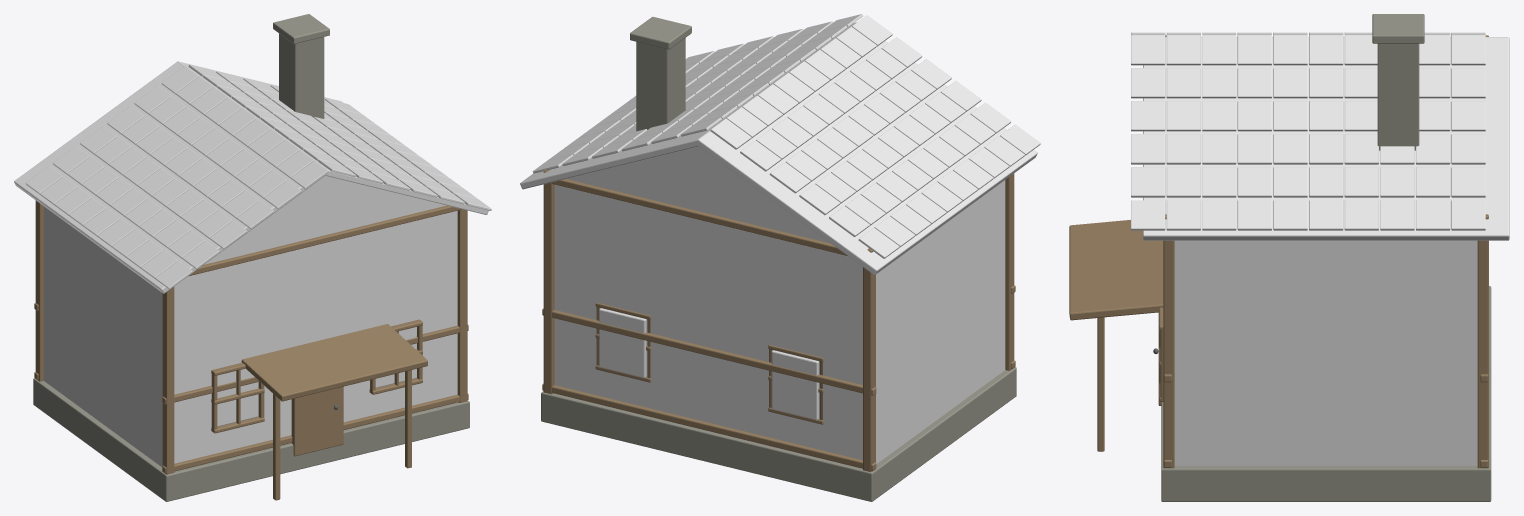
File: house_2.glb
3 views of the same model, side by side, from view 1: azimuth 30°, elevation 25°; view 2: azimuth 150°, elevation 25°; view 3: azimuth 270°, elevation 25° (orthographic). The views are drawn at different scales.
Visible parts, largest first — view 1: corner timber; view 2: corner timber; view 3: corner timber.
Part boxes in pixels (<box>): corner timber: <box>14,14,491,501</box>; corner timber: <box>520,14,1040,501</box>; corner timber: <box>1069,14,1509,501</box>.
Bounding box in the file's own units: 8.95 × 9.14 × 8.4.
